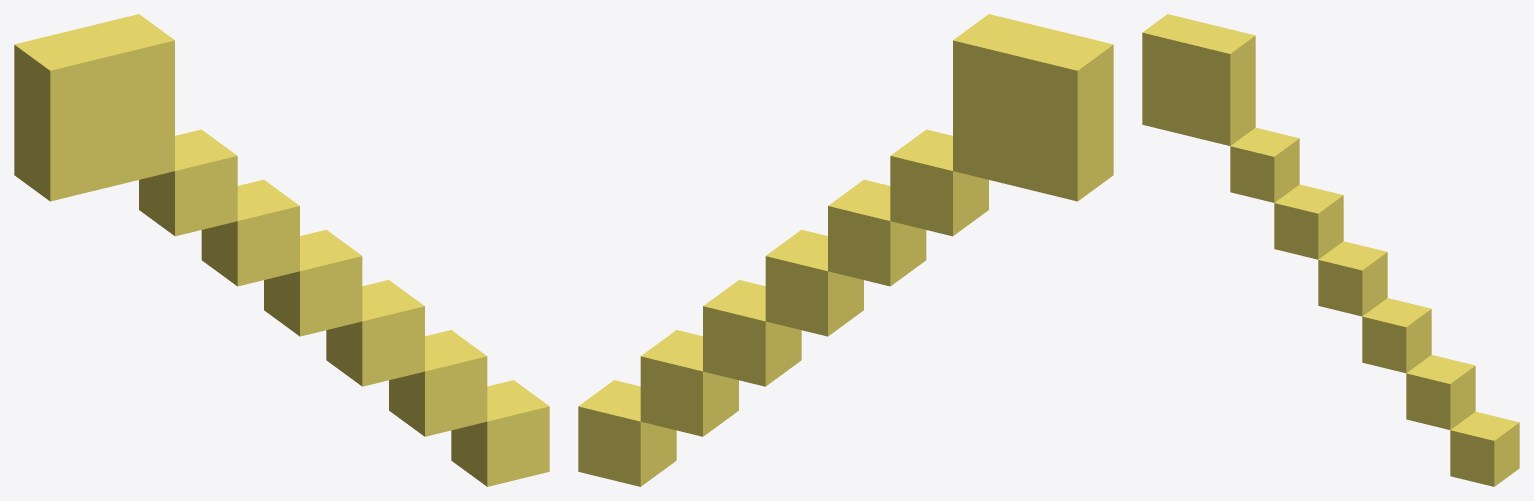
The model's file is Spear-Yellow.vox.obj.
3 renders of one model, left to right at view 1: azimuth 30°, elevation 25°; view 2: azimuth 150°, elevation 25°; view 3: azimuth 330°, elevation 25°, orthographic. The views are drawn at different scales.
Bounding box in the file's own units: 0.8 × 0.8 × 0.1.
1 material, 1 textured.
